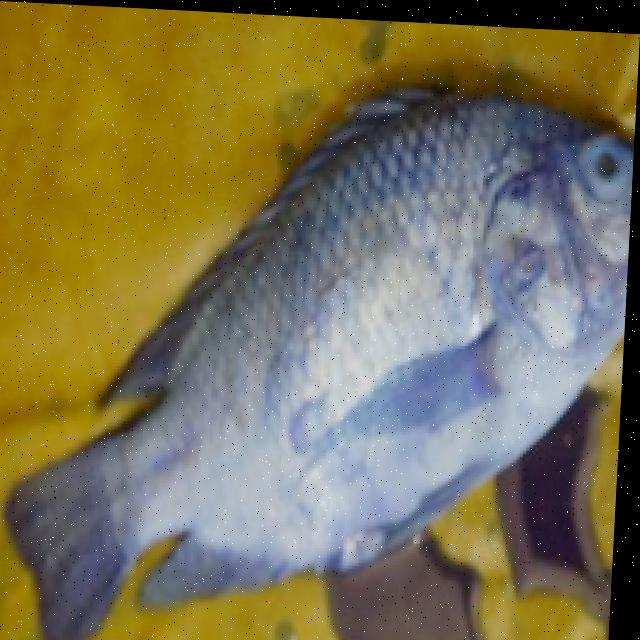Non-Fresh: (259, 72, 580, 492), (573, 132, 636, 194)
